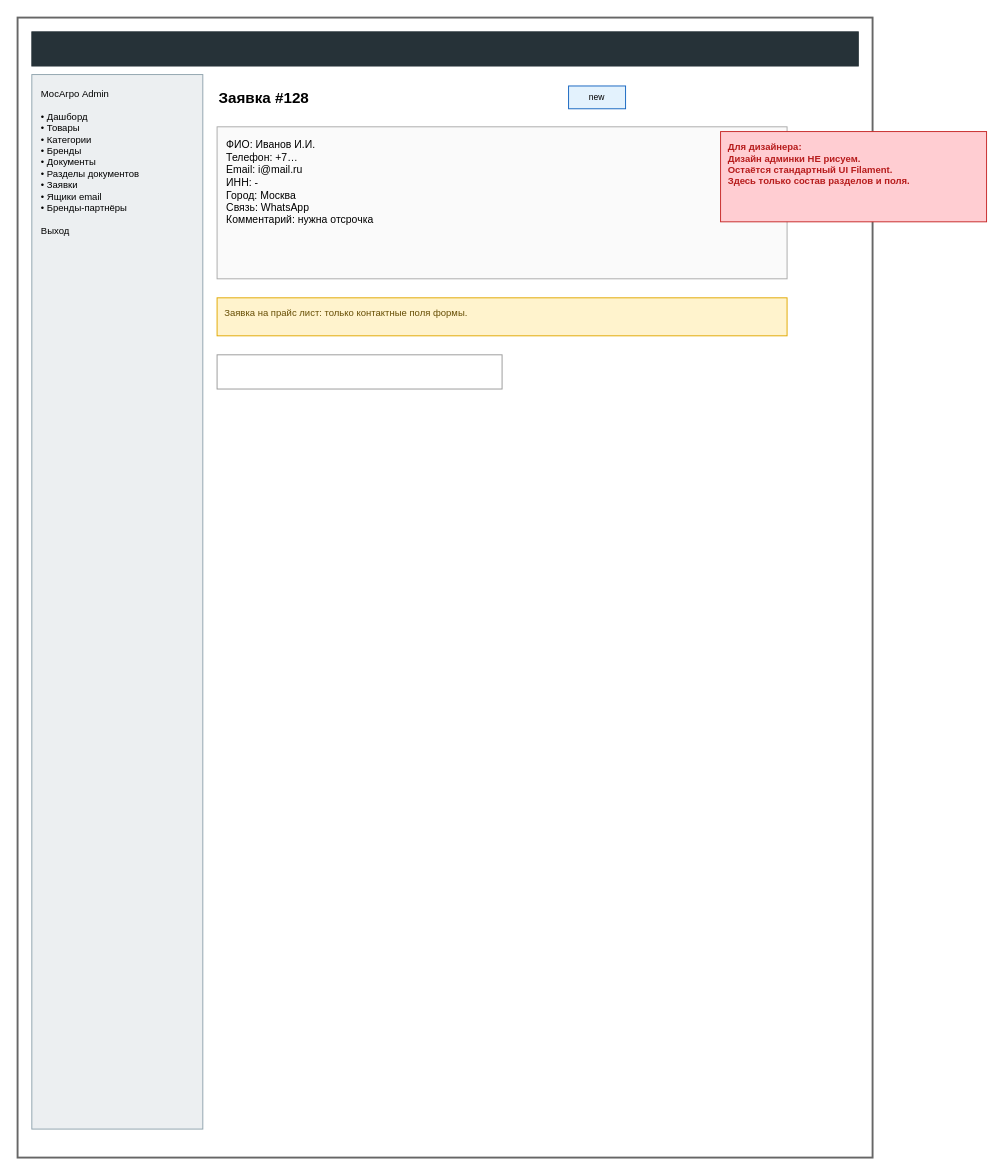
Some shapes in this 1003 by 1174 pixel diagram are drawn without their labels. The shapes that lost their labels are listed below. From the top down, each one's centre as x and y in pixels, then its label:
At (x=444, y=48): "Filament /admin | Админ: admin@mos-agro.ru".
At (x=359, y=371): "Статус: [ new ▼ ] Сохранить".
